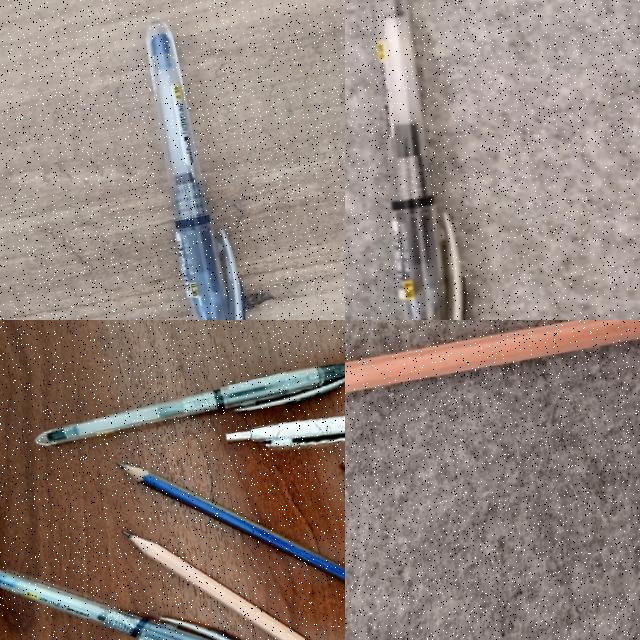pen: (0, 521, 253, 640), (147, 22, 245, 319), (34, 359, 345, 451), (375, 0, 464, 320)
pencil: (122, 465, 345, 582), (345, 320, 639, 393), (128, 534, 308, 640)
signature pen: (228, 371, 345, 465)
